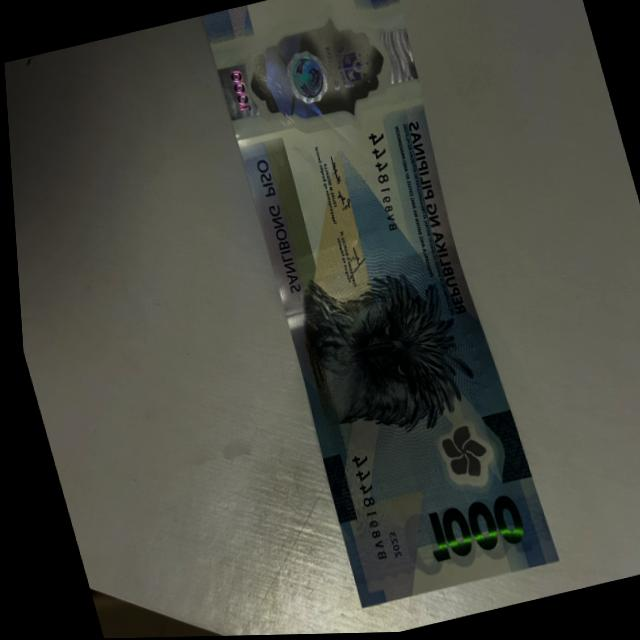clear_window: (231, 2, 408, 142)
eagle: (276, 244, 477, 452)
sampaguita: (423, 419, 491, 486)
serial_number: (320, 431, 389, 579), (352, 117, 415, 246)
value: (408, 484, 528, 568)
